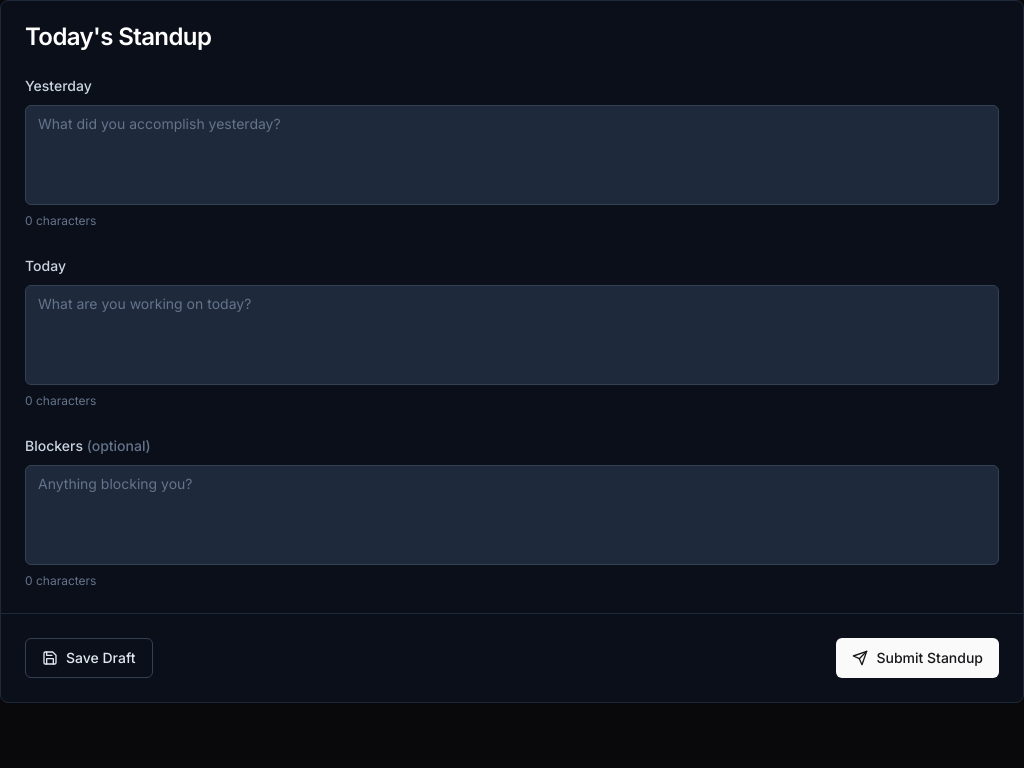
Test: StandupForm › shows validation errors when submitting an empty standup
This screenshot has width=1024, height=768.
Click the button "Submit Standup".
click(918, 658)  # box [836, 638, 999, 678]
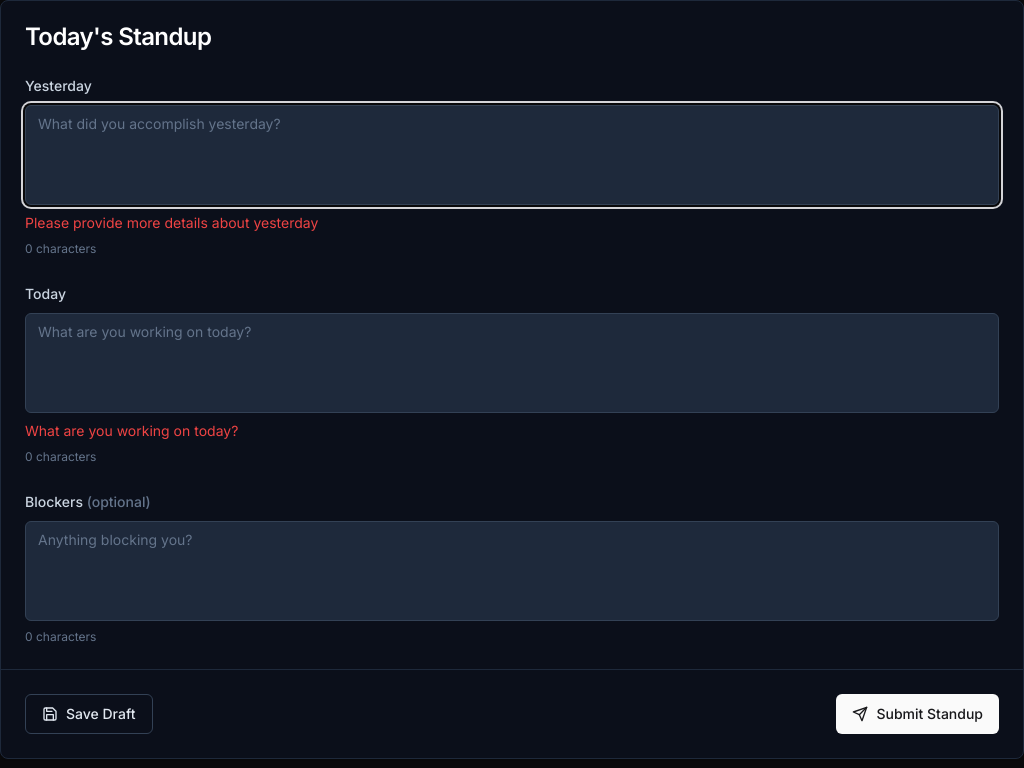
Now the text "Please provide more details about yesterday" is shown, box [25, 214, 318, 231]
